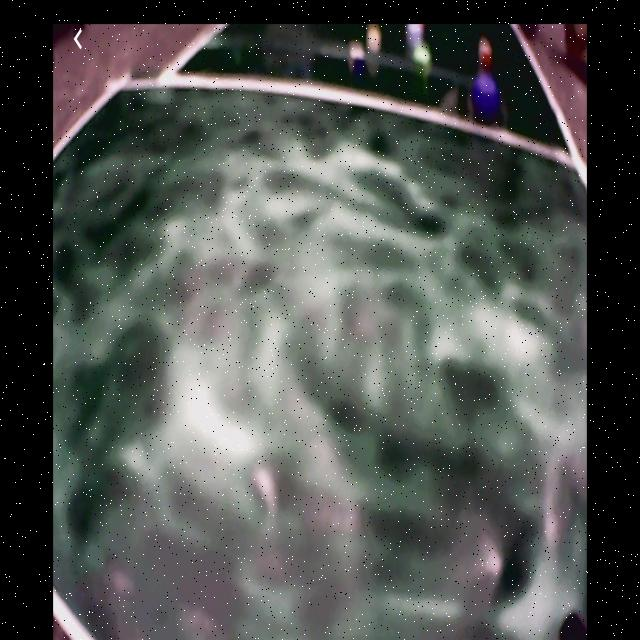ball: (475, 75, 499, 116)
